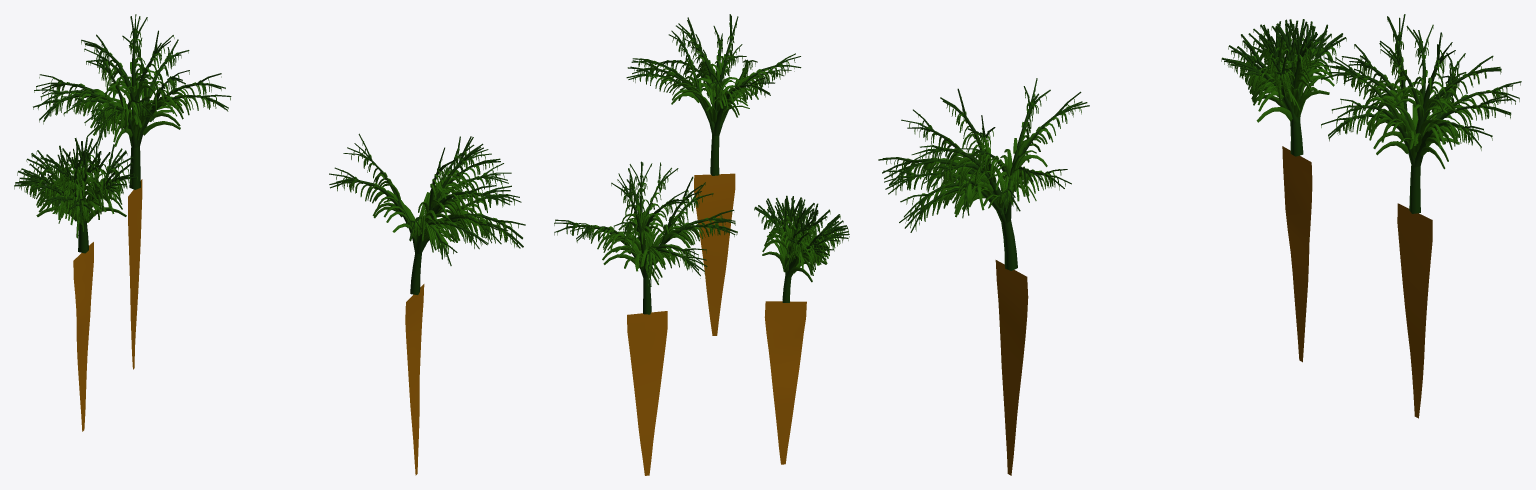
The model's file is Carrots.fbx.
3 renders of one model, left to right at view 1: azimuth 30°, elevation 25°; view 2: azimuth 150°, elevation 25°; view 3: azimuth 270°, elevation 25°, orthographic. The views are drawn at different scales.
Visible parts, largest first — view 1: carrots1Flower; view 2: carrots1Flower; view 3: carrots1Flower.
Boxes of the visible parts, x1,y1,x2,y2 form: carrots1Flower: (14,14,525,475); carrots1Flower: (554,14,849,475); carrots1Flower: (878,14,1521,475).
Size of the model in its own units: 10.82 by 9.99 by 14.95.
